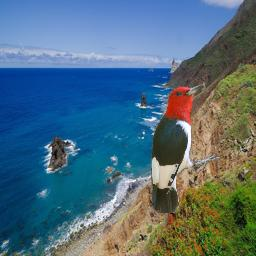Woodpecker: (150, 84, 220, 213)
